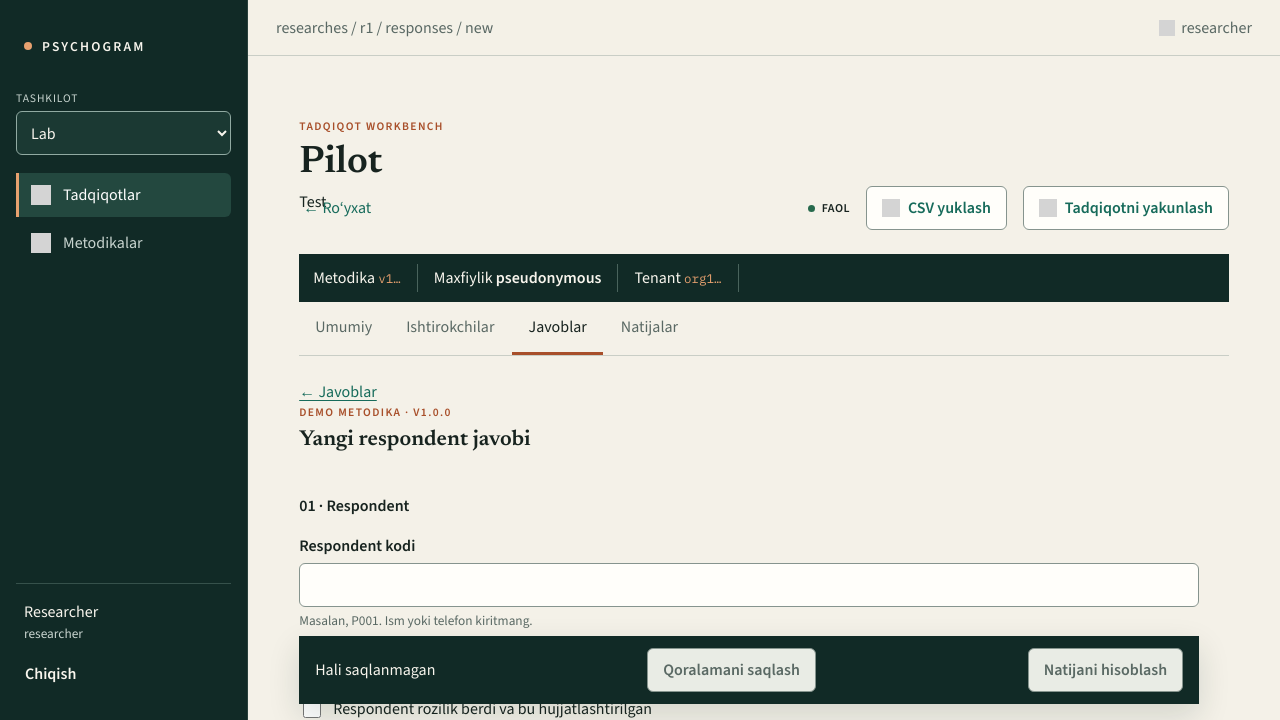
Test case: response form › saves a draft and confirms only after the server does
The image size is (1280, 720).
Type "P001" into the field labelled "Respondent kodi".
click(749, 585); type("P001")  # box [299,563,1199,607]
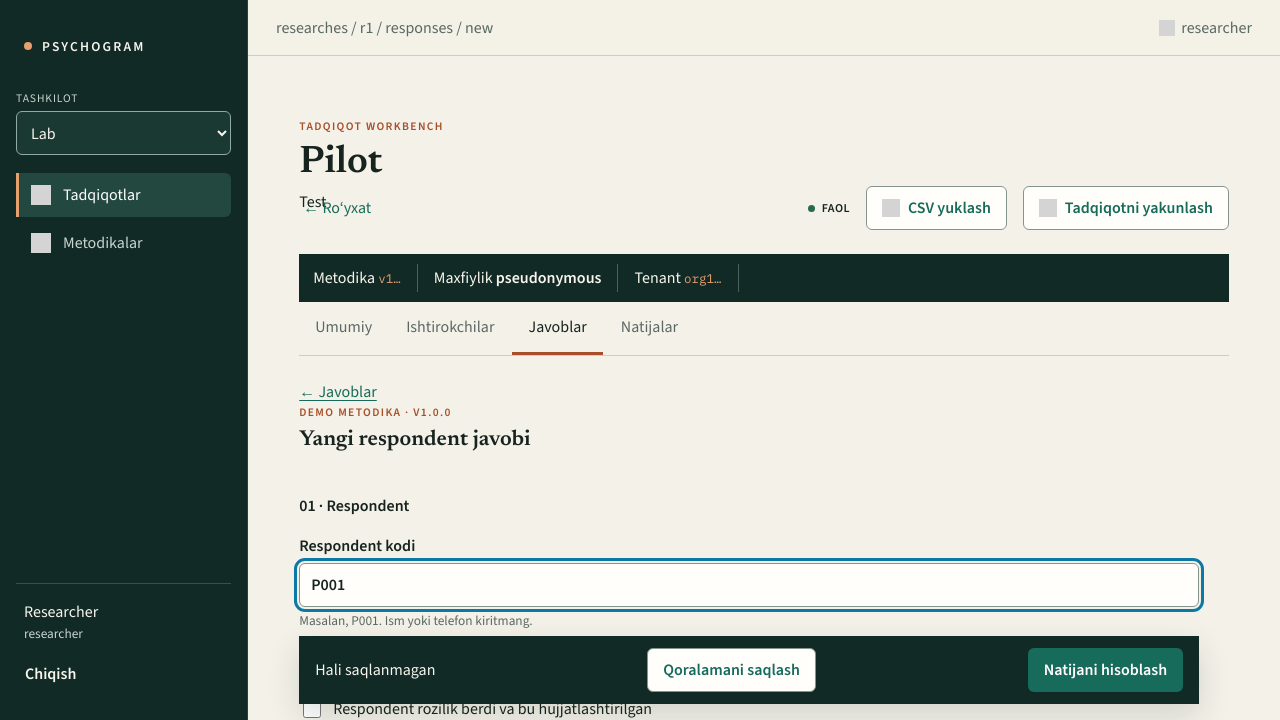
Click the checkbox labelled "Respondent rozilik berdi va bu hujjatlashtirilgan".
click(312, 709)  # box [303,700,321,718]
(page scrolled)
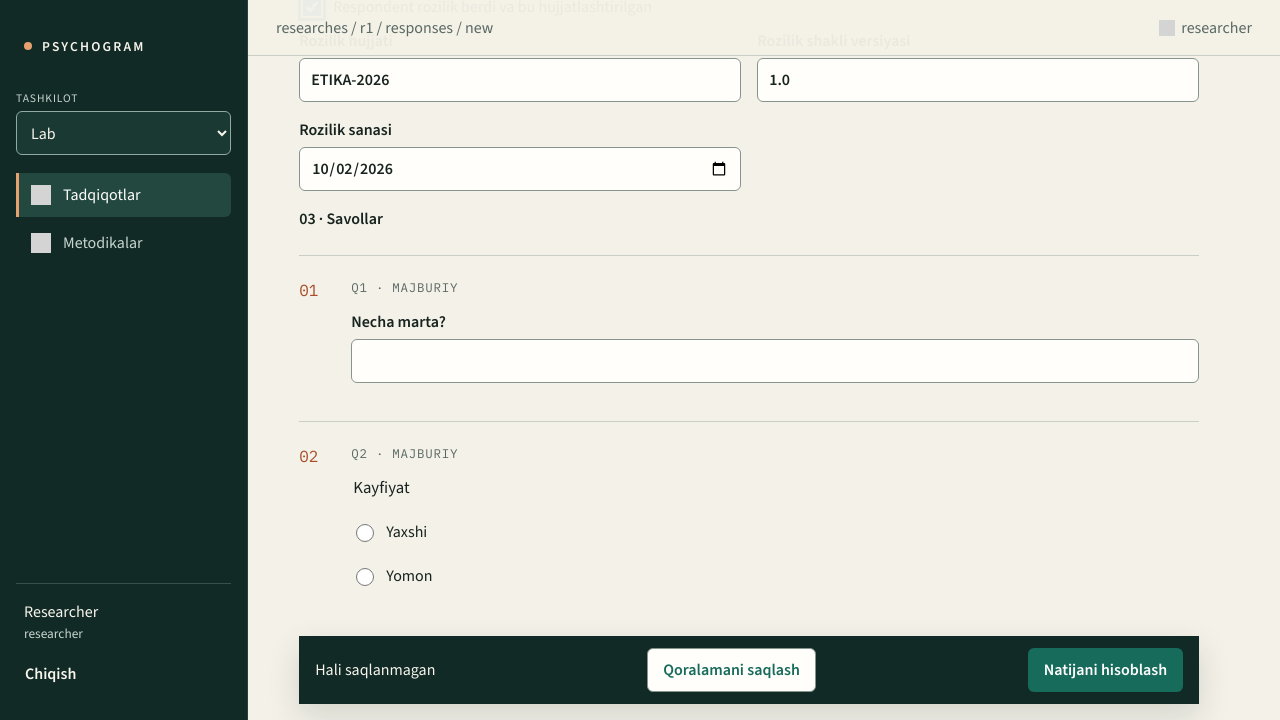
Type "1" into the field labelled "Necha marta?".
click(775, 361); type("1")  # box [351,339,1199,383]
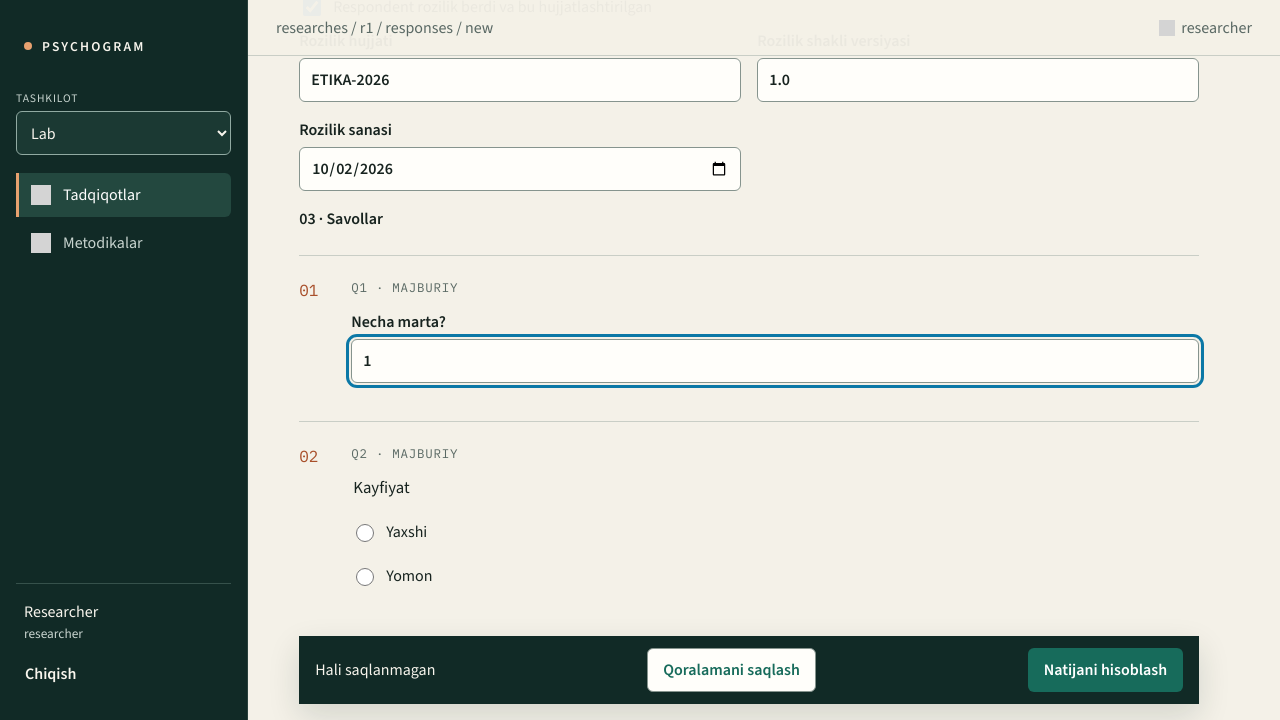
Click the button "Qoralamani saqlash".
click(732, 670)  # box [647,648,816,692]
(page scrolled)
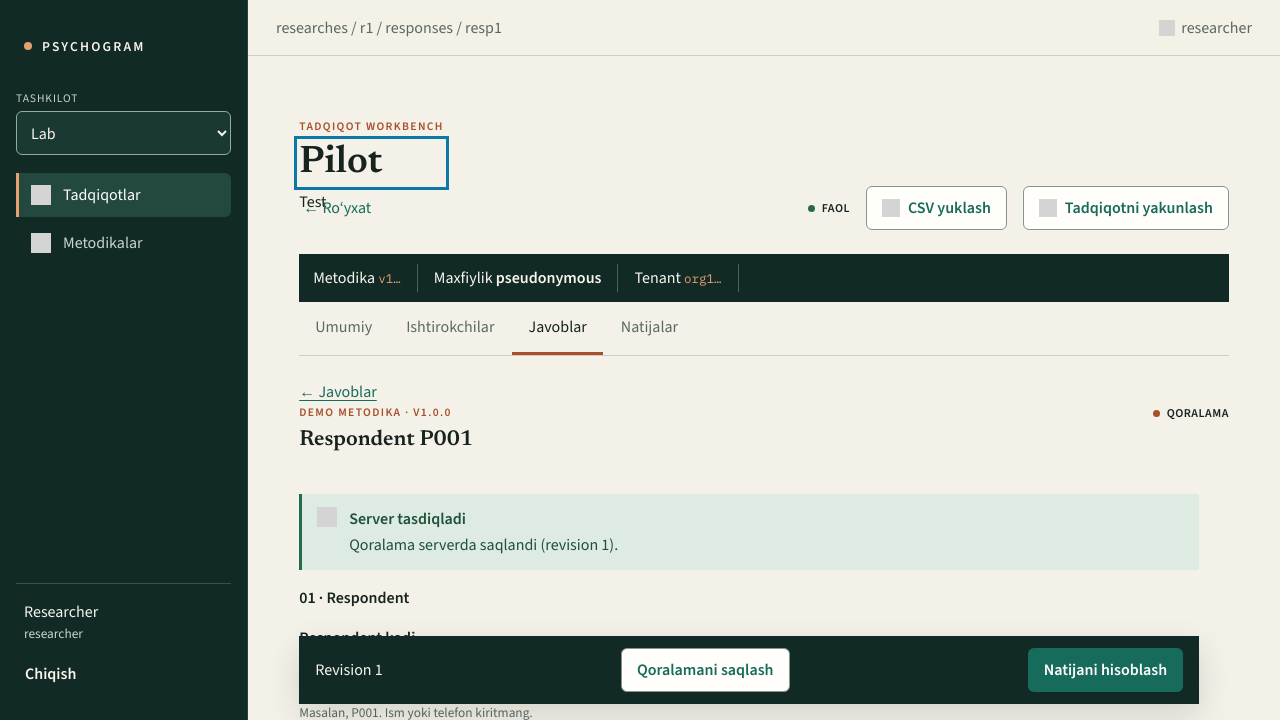
Now the text "Qoralama serverda saqlandi (revision 1)." is shown, box [349,533,618,557]
